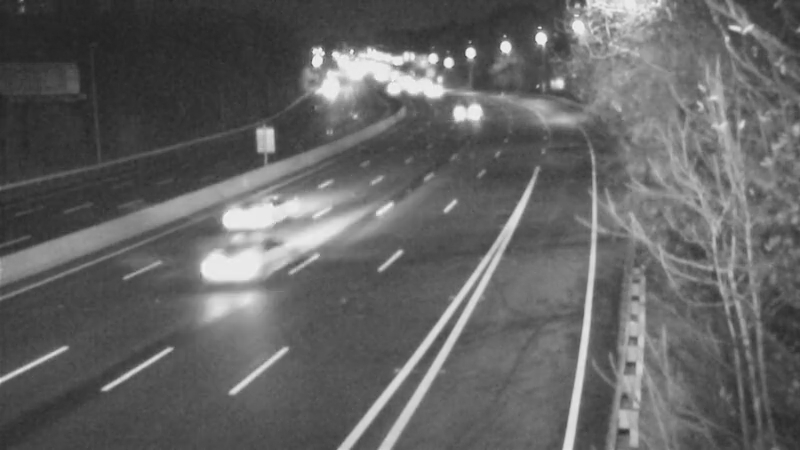vehicle: (207, 173, 287, 253), (184, 220, 264, 300), (410, 69, 460, 119), (435, 86, 485, 136)
